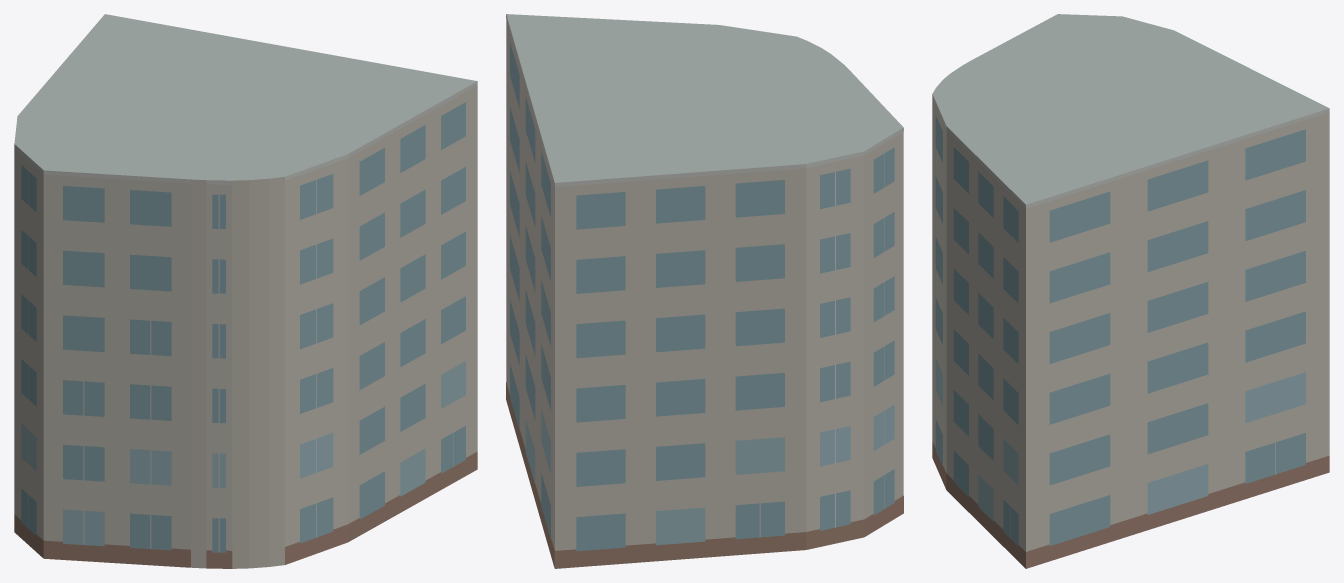
Rendered from survey-upis-32644885.glb.
3 renders of one model, left to right at view 1: azimuth 30°, elevation 25°; view 2: azimuth 150°, elevation 25°; view 3: azimuth 270°, elevation 25°, orthographic. The views are drawn at different scales.
Parts seen in each view (by area): view 1: survey-upis-32644885.tmp; view 2: survey-upis-32644885.tmp; view 3: survey-upis-32644885.tmp.
Part boxes in pixels (bbox=[...]): survey-upis-32644885.tmp: bbox=[14, 14, 477, 568]; survey-upis-32644885.tmp: bbox=[506, 14, 903, 568]; survey-upis-32644885.tmp: bbox=[932, 14, 1329, 568].
Size of the model in its own units: 25.63 by 22.8 by 22.55.
